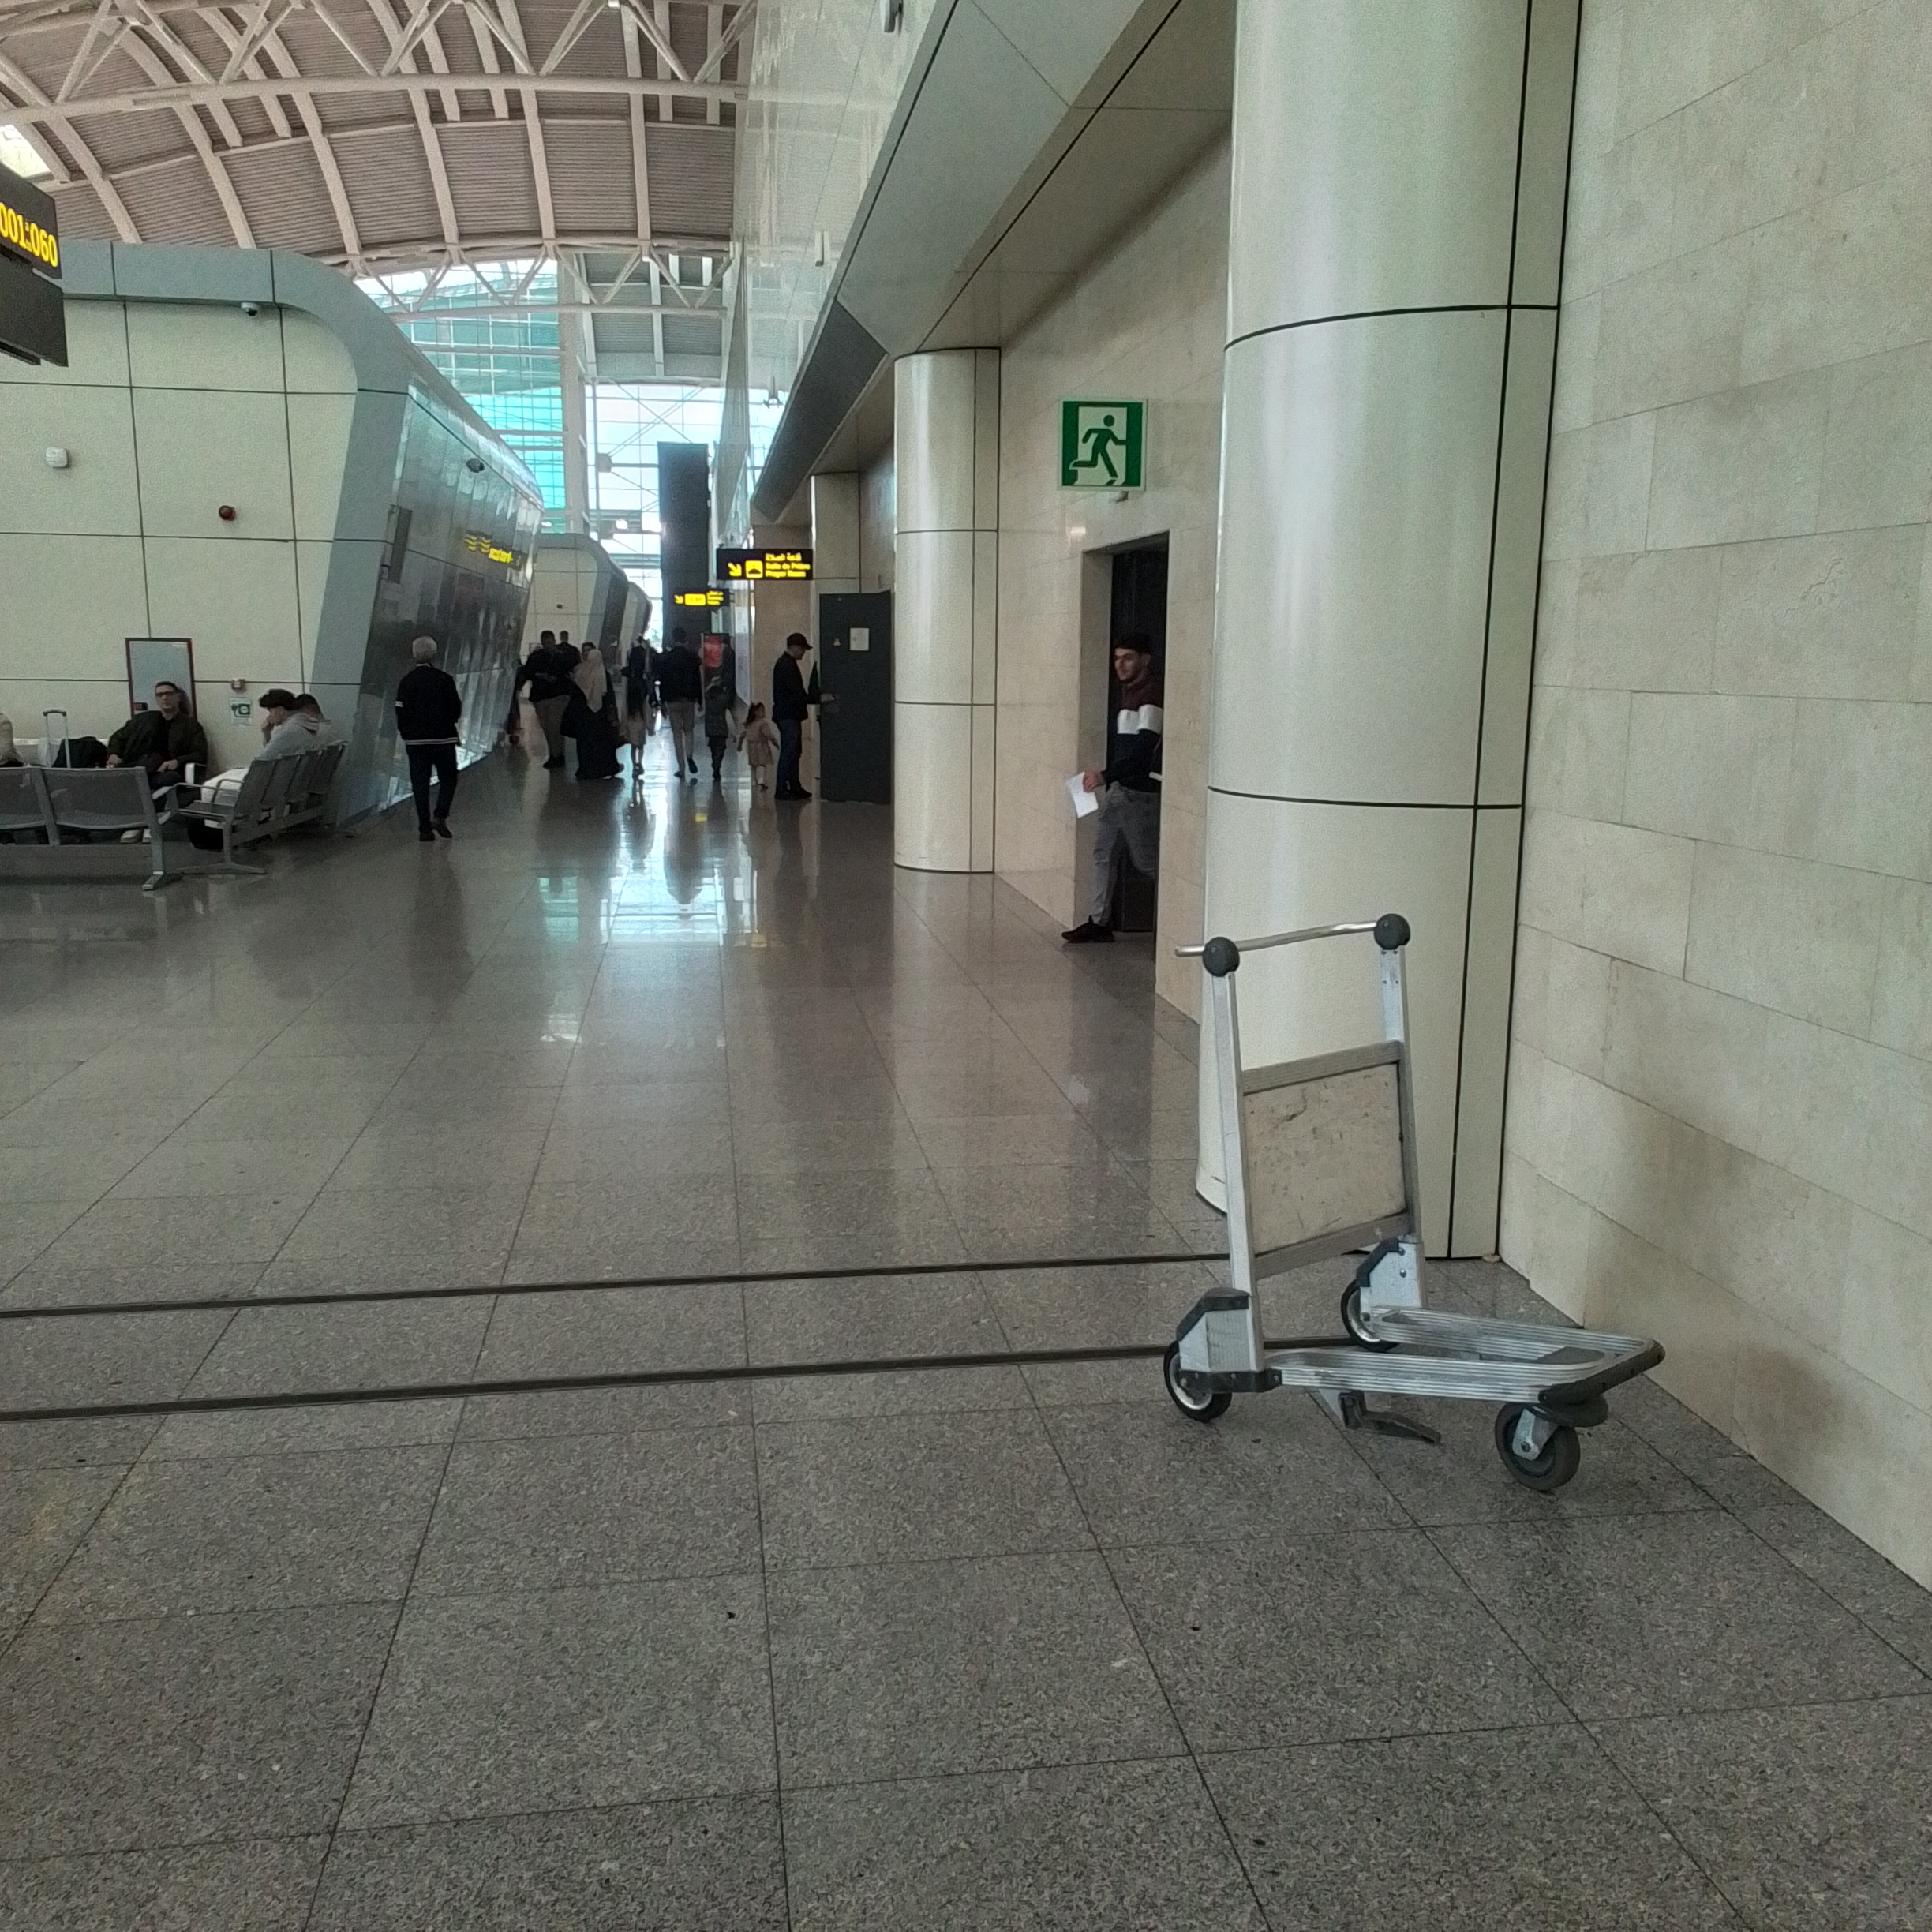airport-trolley: (1152, 899, 1674, 1484)
